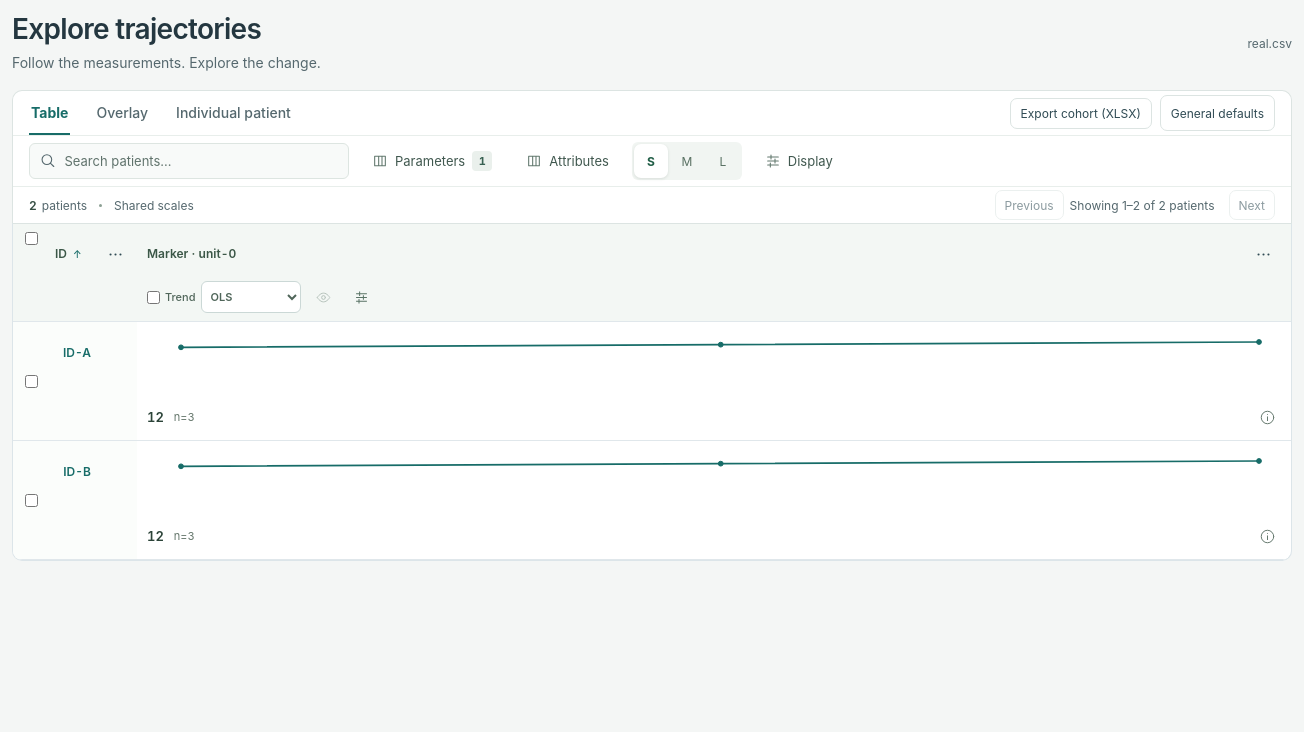
it: real-data trajectories workspace › starts with minimal cells and requires analysis before showing a fitted line
Expected: the heading "Explore trajectories" is shown, [12,12,261,46]
Expected: the checkbox named "Analyse trend: Marker · unit-0" is not checked, [147,291,160,304]
Click the button "Display": [799, 161] box [754,142,844,180]
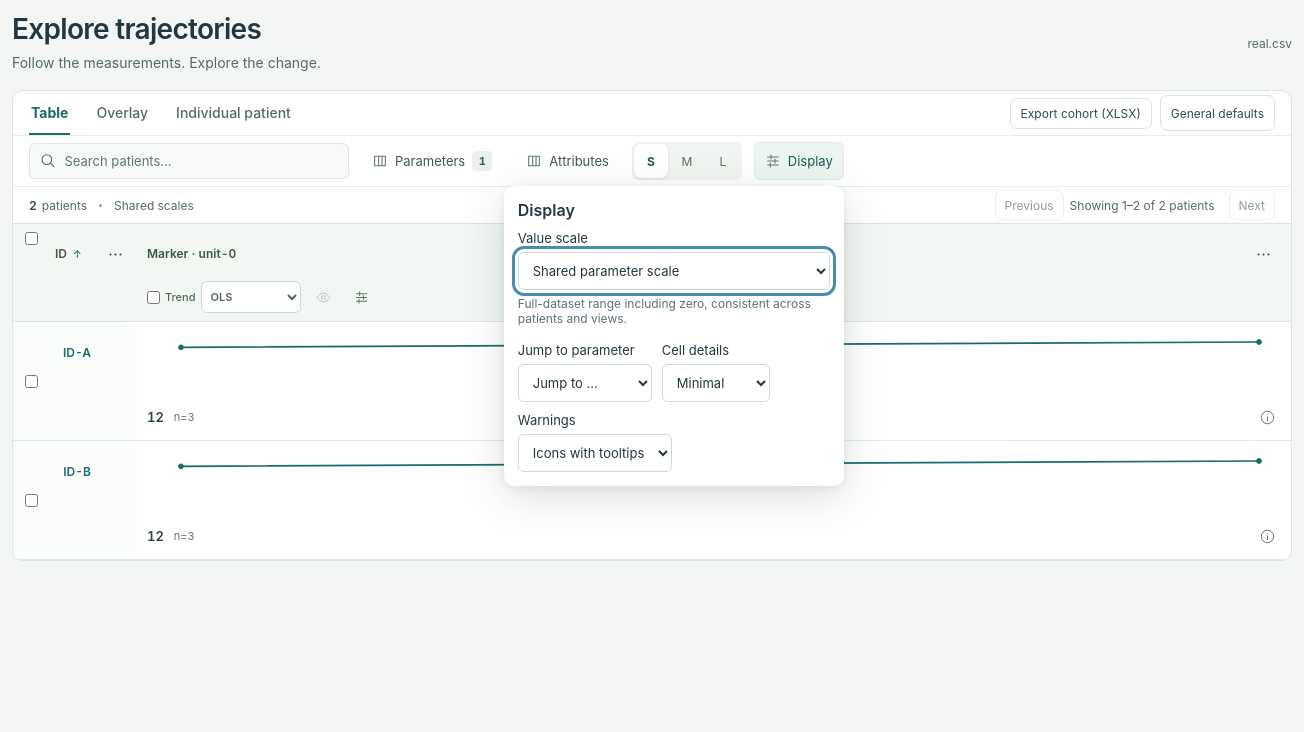
Expected: the dropdown labelled "Cell details" shows "Minimal", [662,364,770,402]
Click the button "Display": [799, 161] box [754,142,844,180]
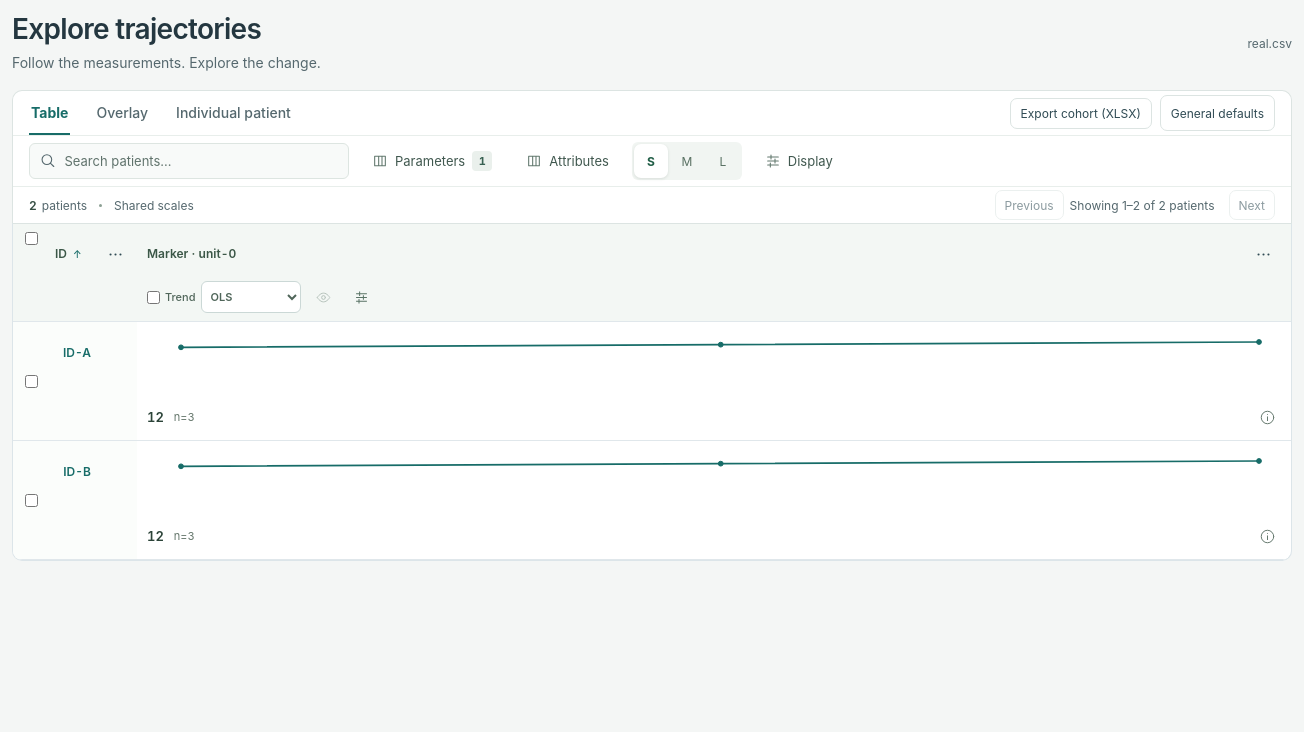
Click the checkbox named "Analyse trend: Marker · unit-0": [154, 297] box [147,291,160,304]
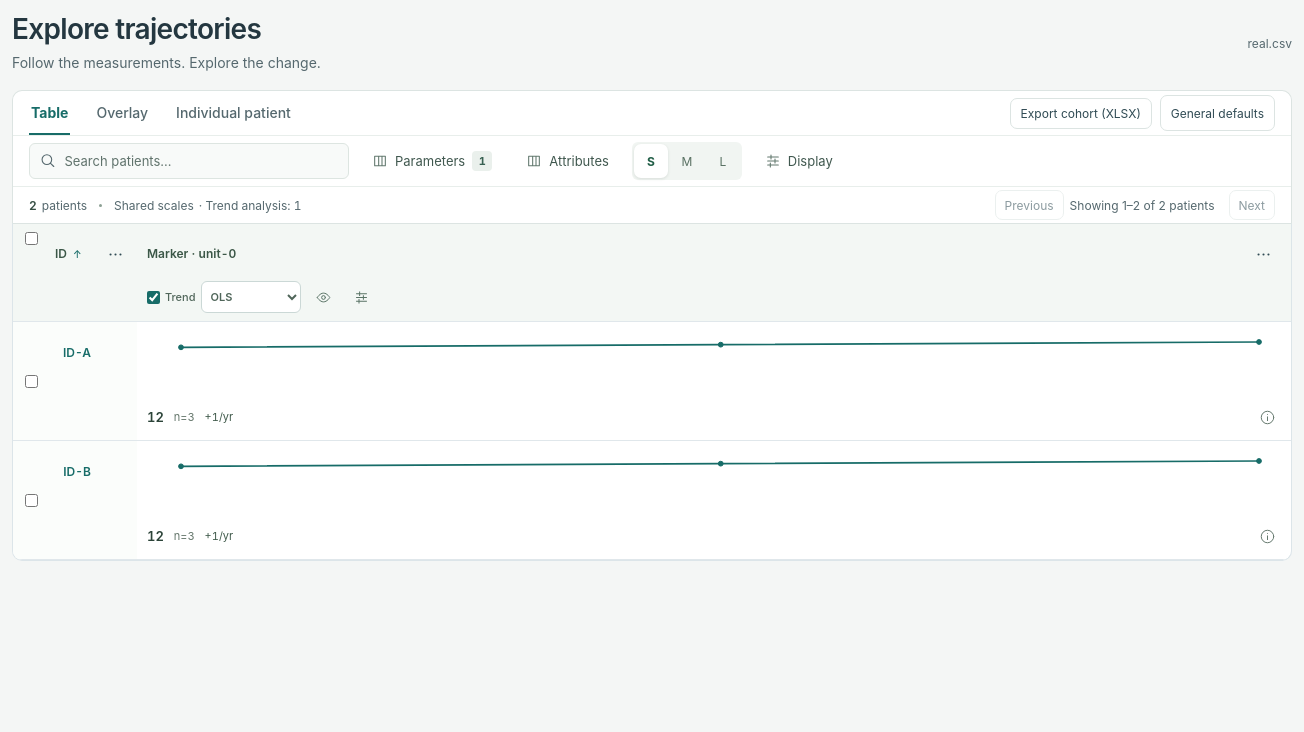
Expected: the button named "Show trend line: Marker · unit-0" is enabled
Expected: the text named "OLS: 1 unit-0/year, R² 1" is shown, [205,410,233,424]
Click the button named "Show trend line: Marker · unit-0": [324, 297] box [308,281,340,313]
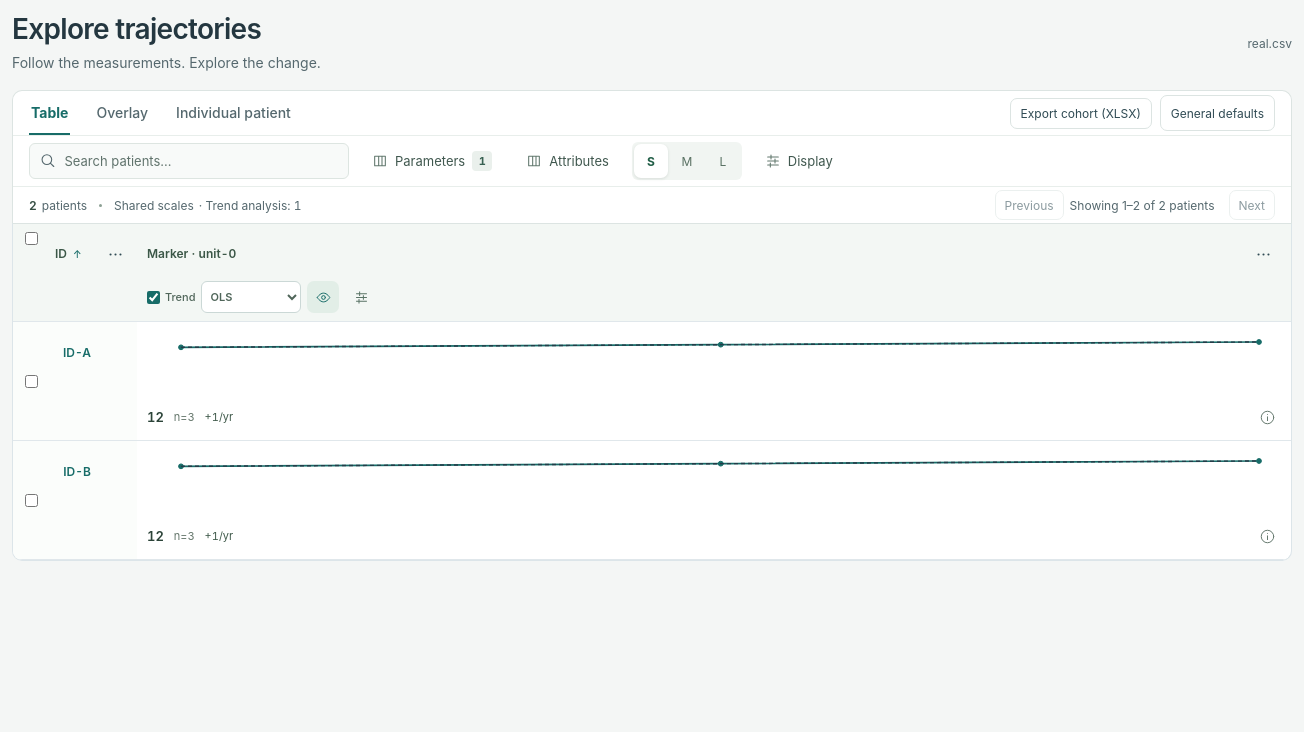
Click the button named "Show trend line: Marker · unit-0": [324, 297] box [308,281,340,313]
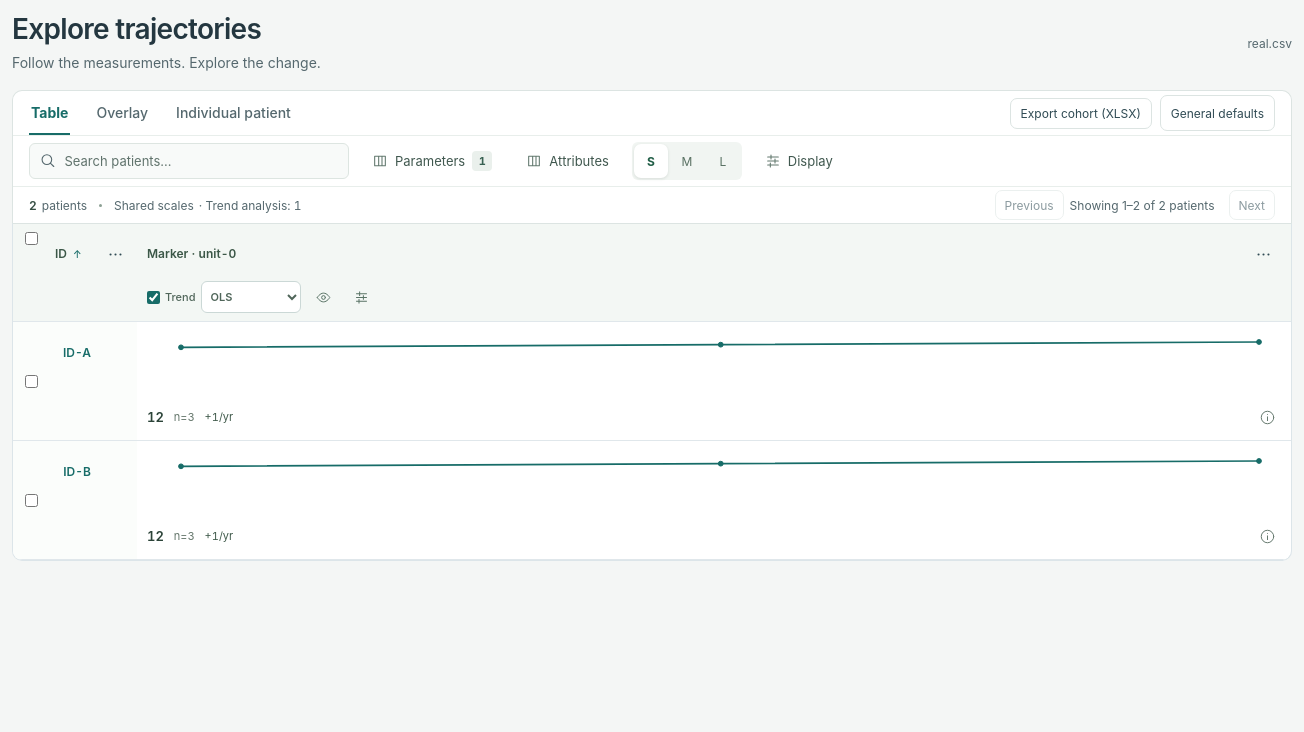
Expected: the checkbox named "Analyse trend: Marker · unit-0" is checked
Expected: the text named "OLS: 1 unit-0/year, R² 1" is shown, [205,410,233,424]
Click the checkbox named "Analyse trend: Marker · unit-0": [154, 297] box [147,291,160,304]
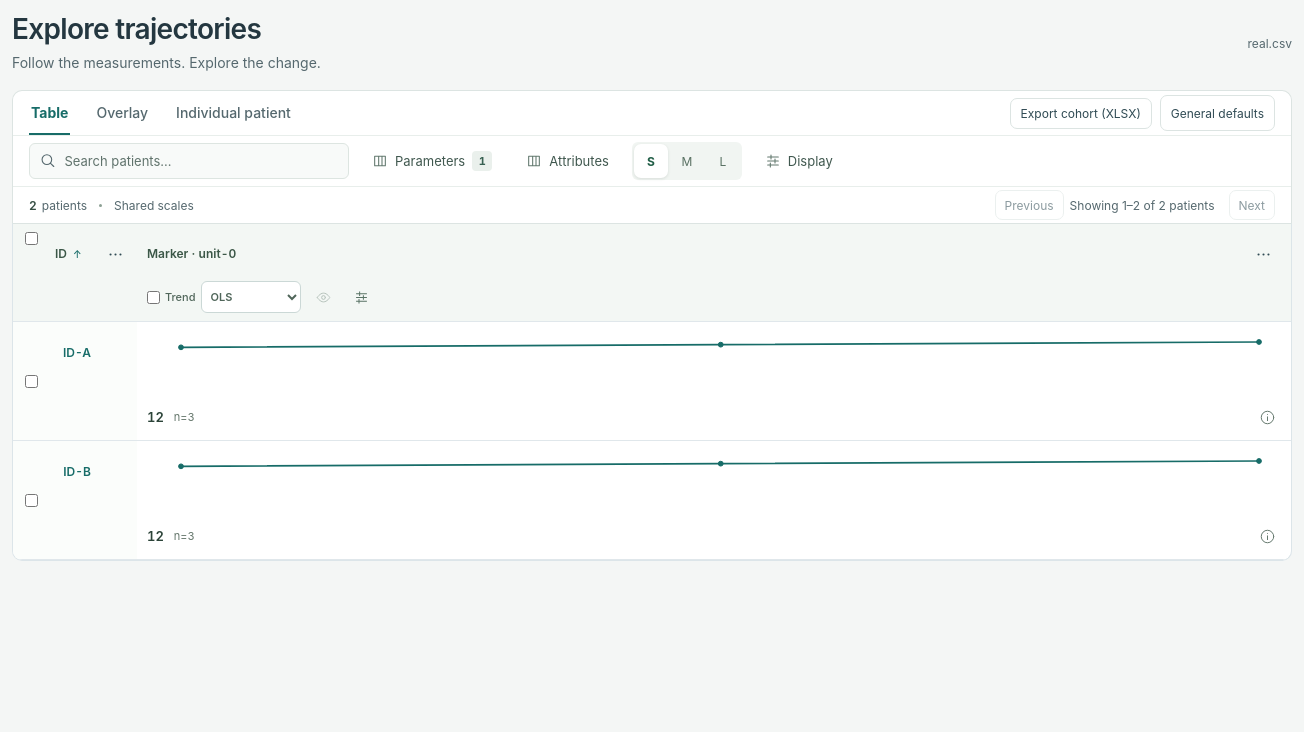
Expected: the button named "Show trend line: Marker · unit-0" is disabled, [308,281,340,313]
